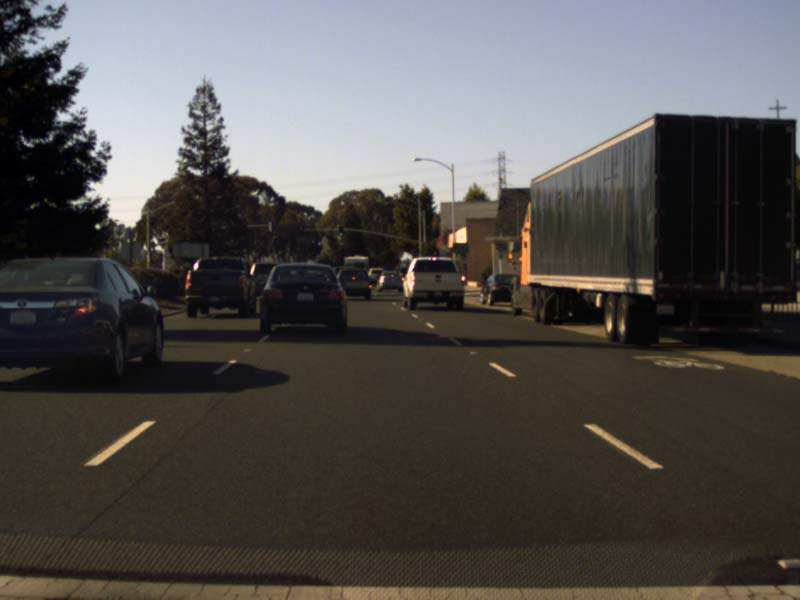Green: (339, 226, 342, 235)
Red: (299, 227, 302, 232)
